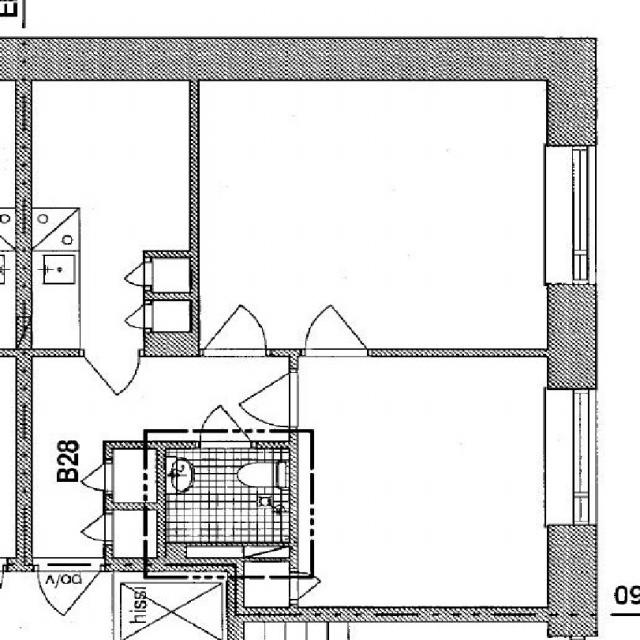door: (292, 379, 378, 453), (38, 557, 101, 626), (38, 388, 99, 449), (190, 156, 250, 200), (201, 397, 250, 449), (289, 571, 329, 599), (114, 304, 152, 328), (116, 262, 152, 286)
